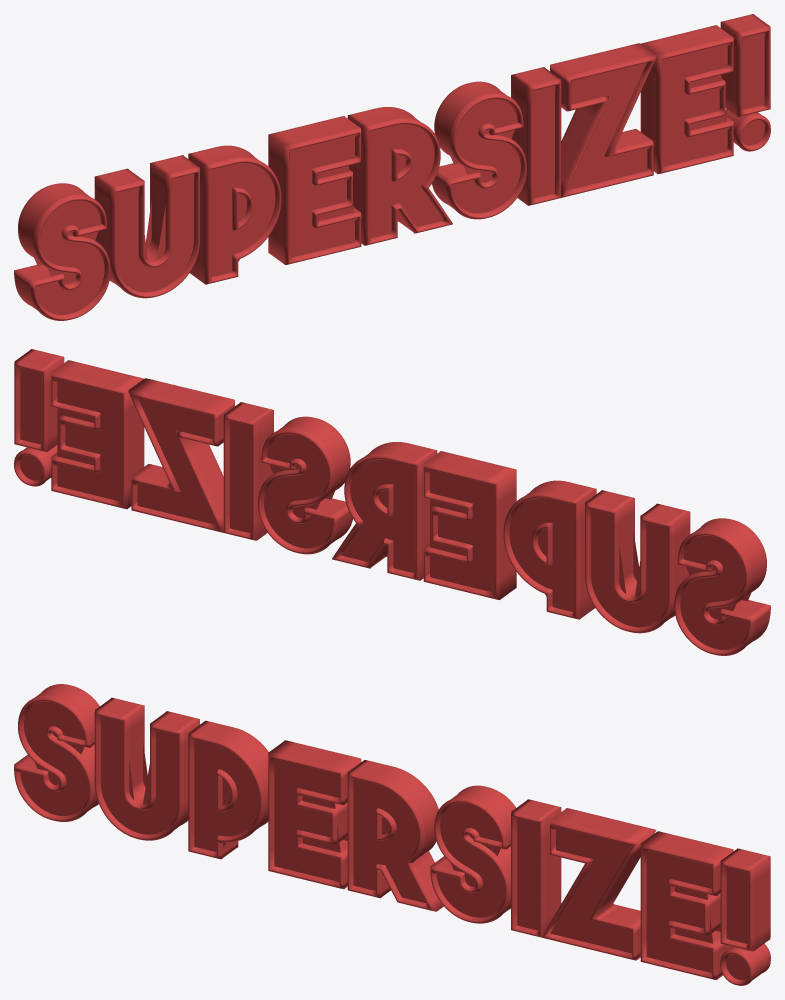
The model's file is Supersize text.fbx.
3 renders of one model, top to bottom at view 1: azimuth 30°, elevation 25°; view 2: azimuth 150°, elevation 25°; view 3: azimuth 330°, elevation 25°, orthographic.
Parts seen in each view (by area): view 1: polySurface1; view 2: polySurface1; view 3: polySurface1.
Part boxes in pixels (x1,y1,x2,y2): polySurface1: [14, 14, 770, 320]; polySurface1: [14, 349, 770, 655]; polySurface1: [14, 684, 770, 985].
Bounding box in the file's own units: 6.61 × 1.06 × 0.313.
